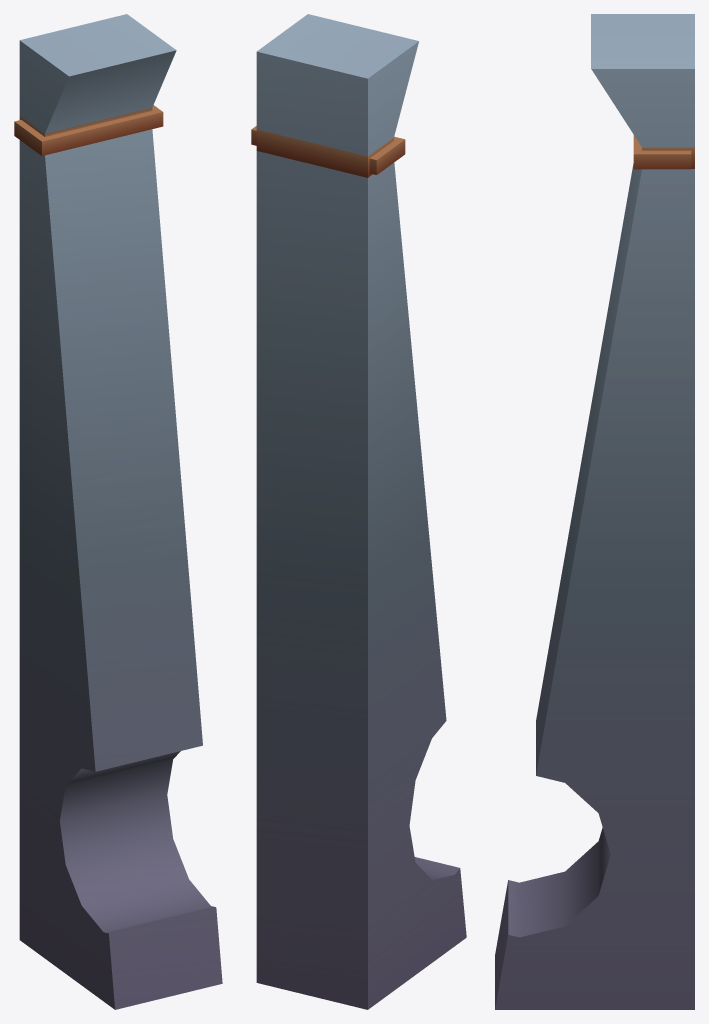
The model's file is Pillars.fbx.
3 renders of one model, left to right at view 1: azimuth 30°, elevation 25°; view 2: azimuth 150°, elevation 25°; view 3: azimuth 270°, elevation 25°, orthographic. The views are drawn at different scales.
Parts seen in each view (by area): view 1: FinalPillar; view 2: FinalPillar; view 3: FinalPillar.
Boxes of the visible parts, x1,y1,x2,y2 form: FinalPillar: [14, 14, 222, 1009]; FinalPillar: [251, 14, 466, 1009]; FinalPillar: [495, 14, 694, 1009].
Bounding box in the file's own units: 42.35 × 300 × 57.75.
